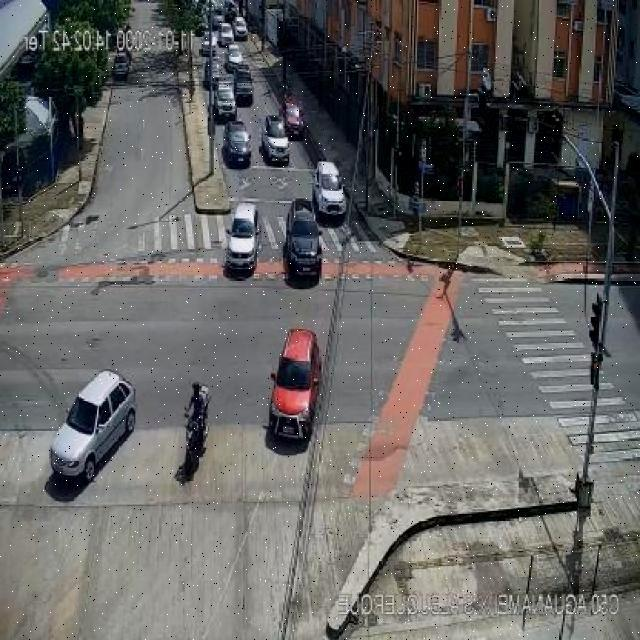Car: (48, 370, 138, 495), (266, 324, 325, 454), (282, 199, 322, 283), (224, 200, 260, 280), (315, 162, 346, 220), (262, 113, 289, 168), (279, 95, 308, 142), (224, 121, 253, 166), (214, 80, 239, 126), (233, 66, 254, 109), (223, 44, 244, 77), (233, 16, 249, 43), (218, 21, 236, 44)
Cycle: (184, 380, 214, 464)
